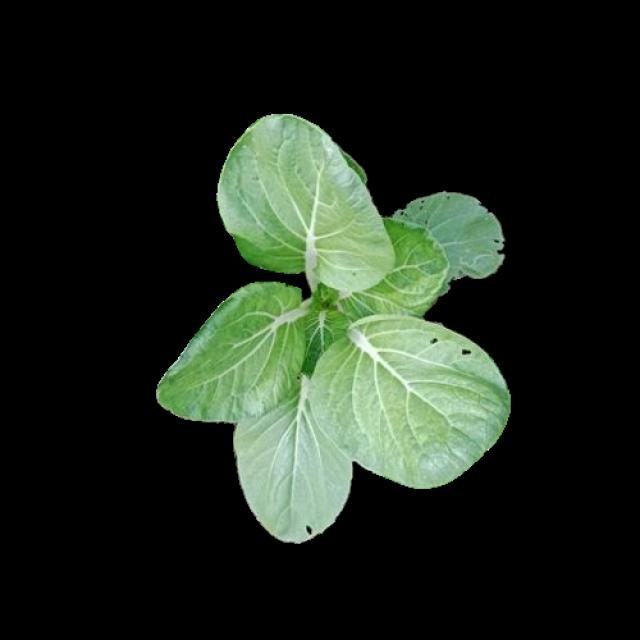not-mature: (157, 116, 512, 536)
unhealthy: (220, 119, 393, 293), (393, 190, 507, 278)
